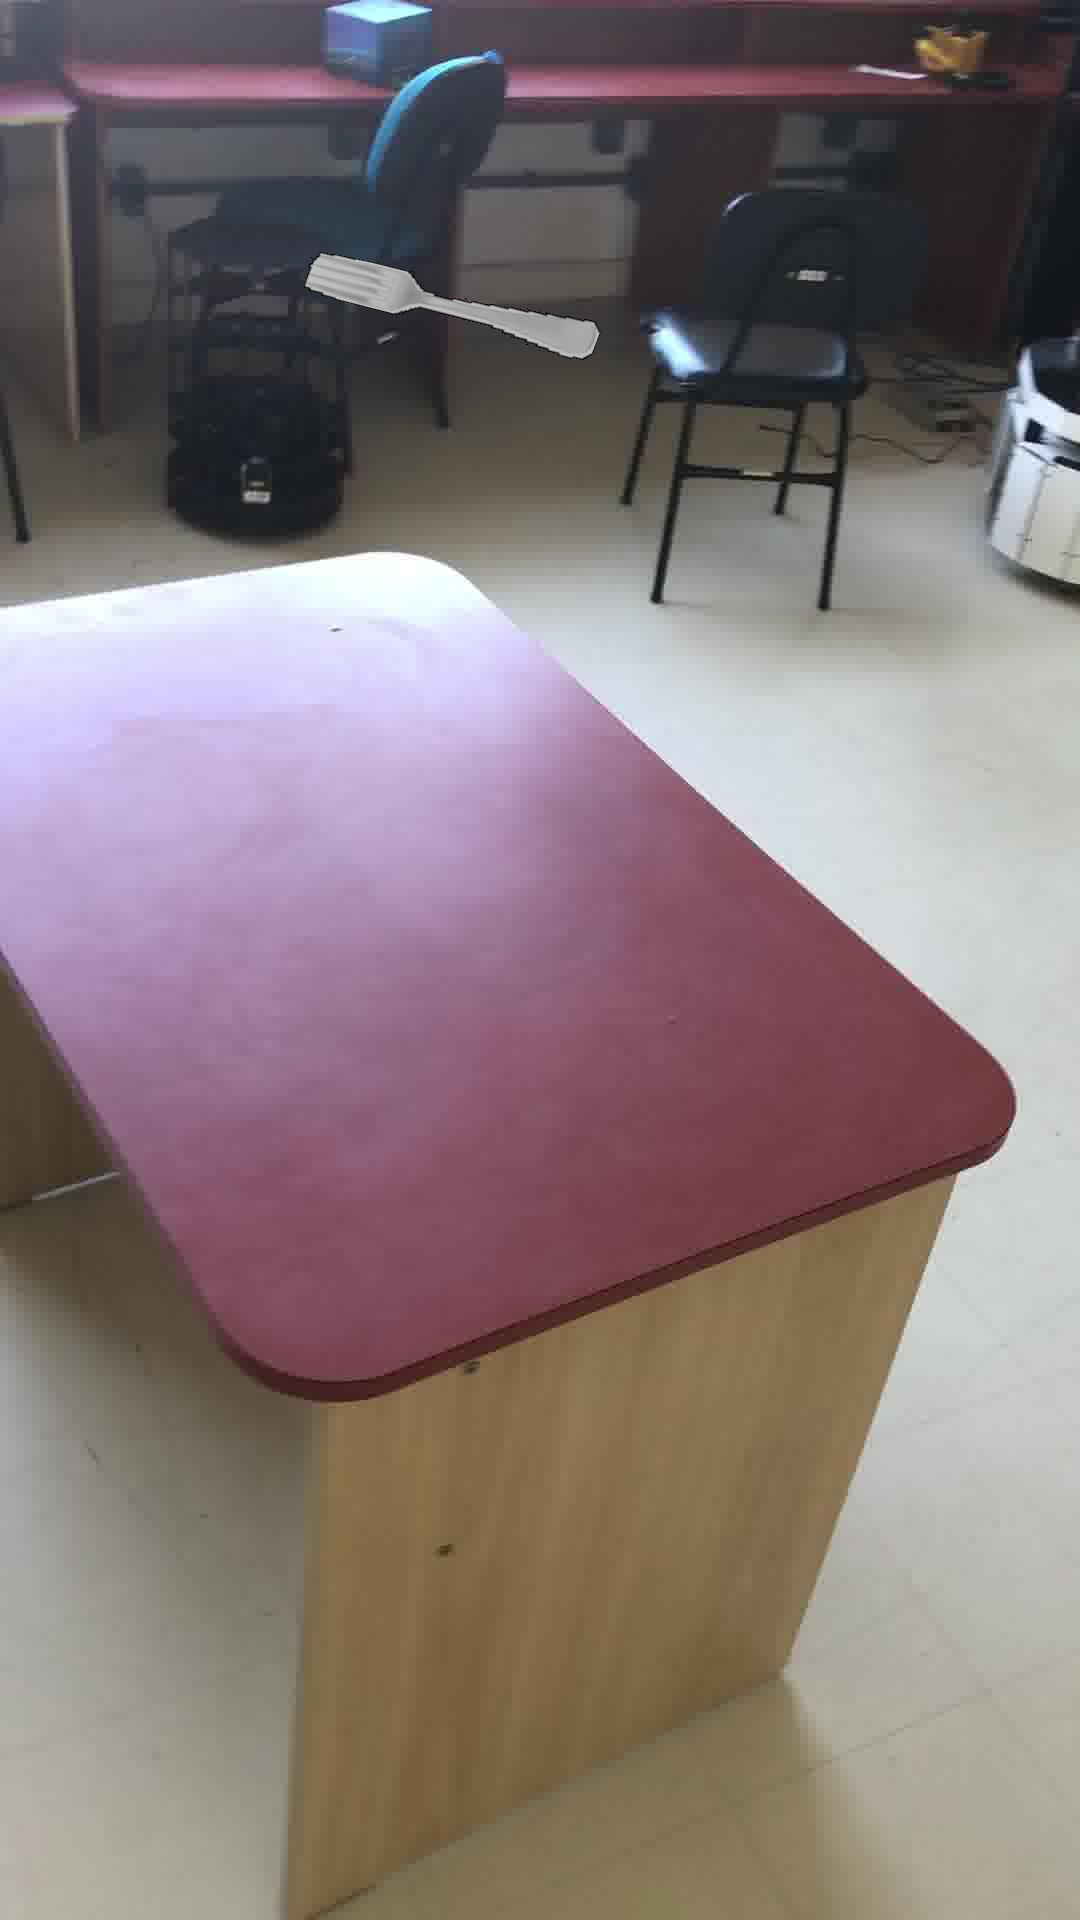fork: (302, 251, 600, 359)
